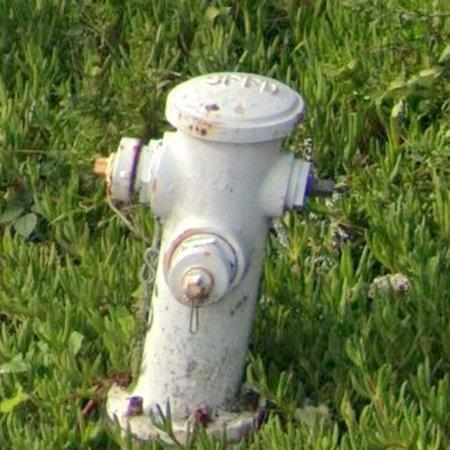a fire hydrant: (104, 73, 312, 445)
